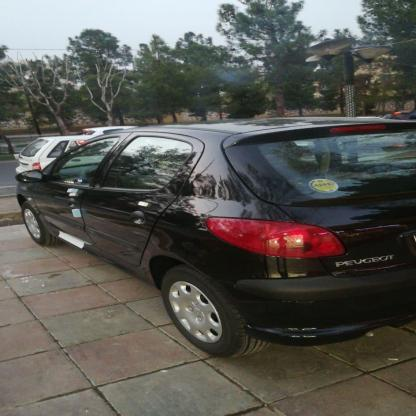Car: (11, 126, 416, 347), (3, 134, 102, 172)
